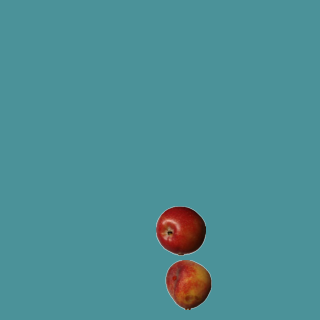Apple Braeburn: (155, 205, 205, 255)
Peach: (163, 259, 213, 309)
